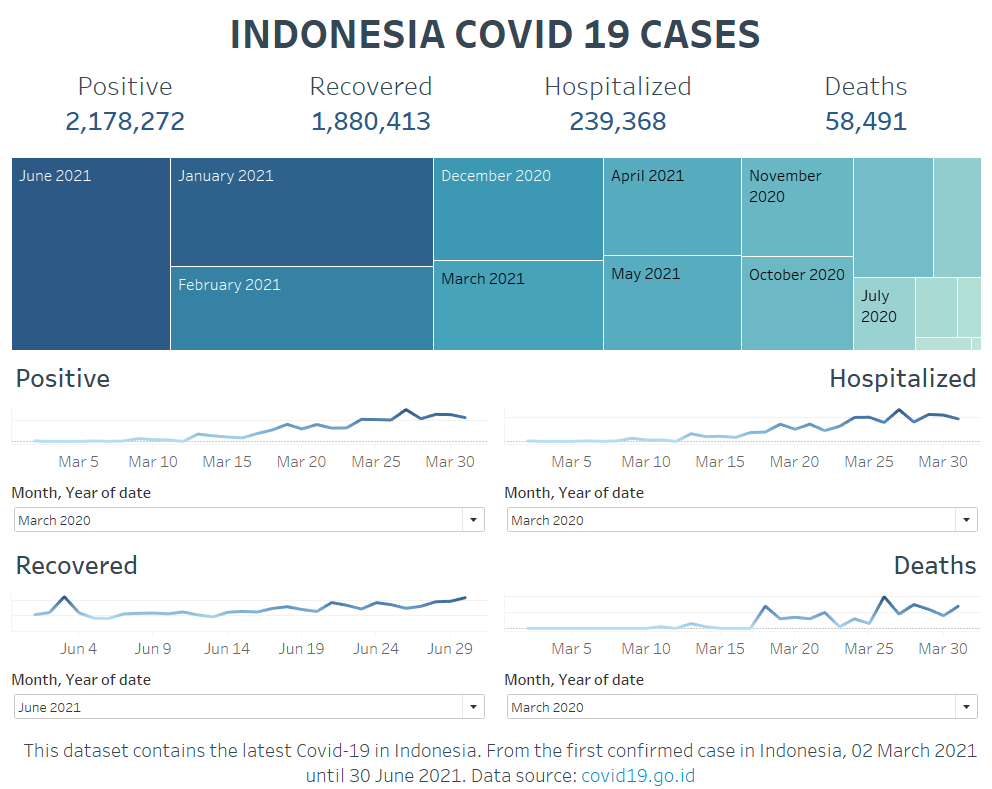

The page's visual inventory and layout, read from the dashboard file:
{"tool":"tableau","page":{"name":"Dashboard 1","canvas":[1000,800],"ordinal":0},"visuals":[{"type":"text","box":[5,10,986,55]},{"type":"text","box":[5,58,245.5,102]},{"type":"text","box":[250.5,58,245.5,102]},{"type":"text","box":[496,58,249.5,102]},{"type":"text","box":[745.5,58,245.5,102]},{"type":"worksheet","title":"treemaps","mark":"Automatic","box":[6,155,986,210]},{"type":"worksheet","title":"positif","mark":"Automatic","rows":["jumlah_positif"],"cols":["date"],"box":[10,358,485,126]},{"type":"worksheet","title":"dirawat","mark":"Automatic","rows":["jumlah_dirawat"],"cols":["date"],"box":[503,358,485,126]},{"type":"filter","title":"positif","param":"[federated.05u5x2l09jdeso17i32vi13lb3h2].[my:date:ok]","box":[10,484,485,61]},{"type":"filter","title":"dirawat","param":"[federated.05u5x2l09jdeso17i32vi13lb3h2].[my:date:ok]","box":[503,484,485,61]},{"type":"worksheet","title":"sembuh","mark":"Automatic","rows":["jumlah_sembuh"],"cols":["date"],"box":[10,545,485,126]},{"type":"worksheet","title":"meninggal","mark":"Automatic","rows":["jumlah_meninggal"],"cols":["date"],"box":[503,545,485,126]},{"type":"filter","title":"sembuh","param":"[federated.05u5x2l09jdeso17i32vi13lb3h2].[my:date:ok]","box":[10,671,485,61]},{"type":"filter","title":"meninggal","param":"[federated.05u5x2l09jdeso17i32vi13lb3h2].[my:date:ok]","box":[503,671,485,61]}]}

Visuals, with their boxes in screenshot pixels (x1, y1, x2, y2), scaled from the page's 1000x800 canvas onto the 992x789 screenshot:
text: <region>5, 10, 983, 64</region>
text: <region>5, 57, 248, 158</region>
text: <region>248, 57, 492, 158</region>
text: <region>492, 57, 740, 158</region>
text: <region>740, 57, 983, 158</region>
"treemaps" worksheet: <region>6, 153, 984, 360</region>
"positif" worksheet: <region>10, 353, 491, 477</region>
"dirawat" worksheet: <region>499, 353, 980, 477</region>
"positif" filter: <region>10, 477, 491, 538</region>
"dirawat" filter: <region>499, 477, 980, 538</region>
"sembuh" worksheet: <region>10, 538, 491, 662</region>
"meninggal" worksheet: <region>499, 538, 980, 662</region>
"sembuh" filter: <region>10, 662, 491, 722</region>
"meninggal" filter: <region>499, 662, 980, 722</region>
